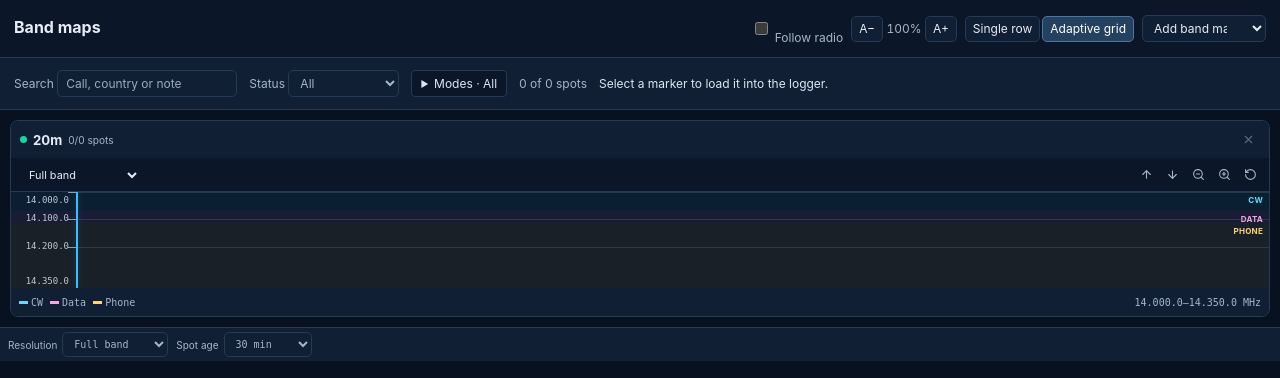
Scenario: native band-map parity › keeps a manual zoom stable while the workspace is resized
Click the button named "Zoom 20m in".
click(1224, 174)  # box [1212,162,1237,187]
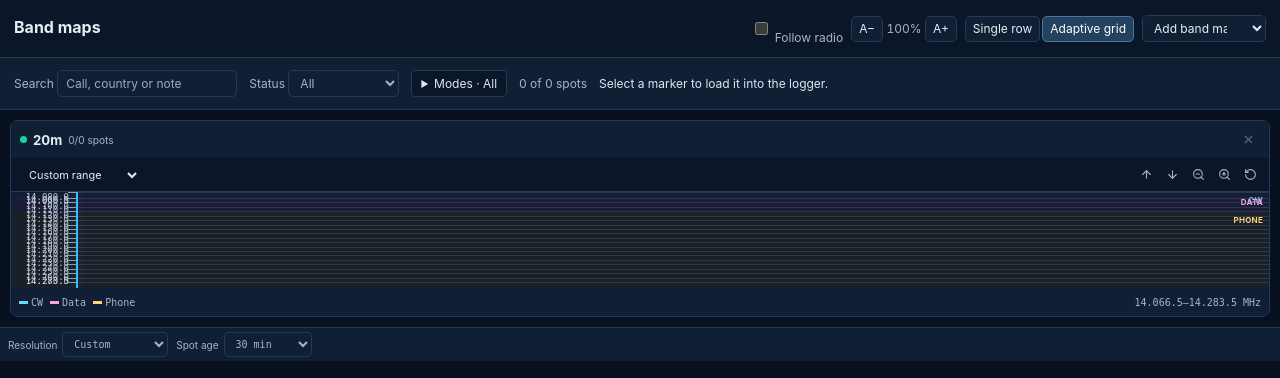
Check: the dropdown named "Band map resolution" shows "Custom", box [62,332,168,357]
